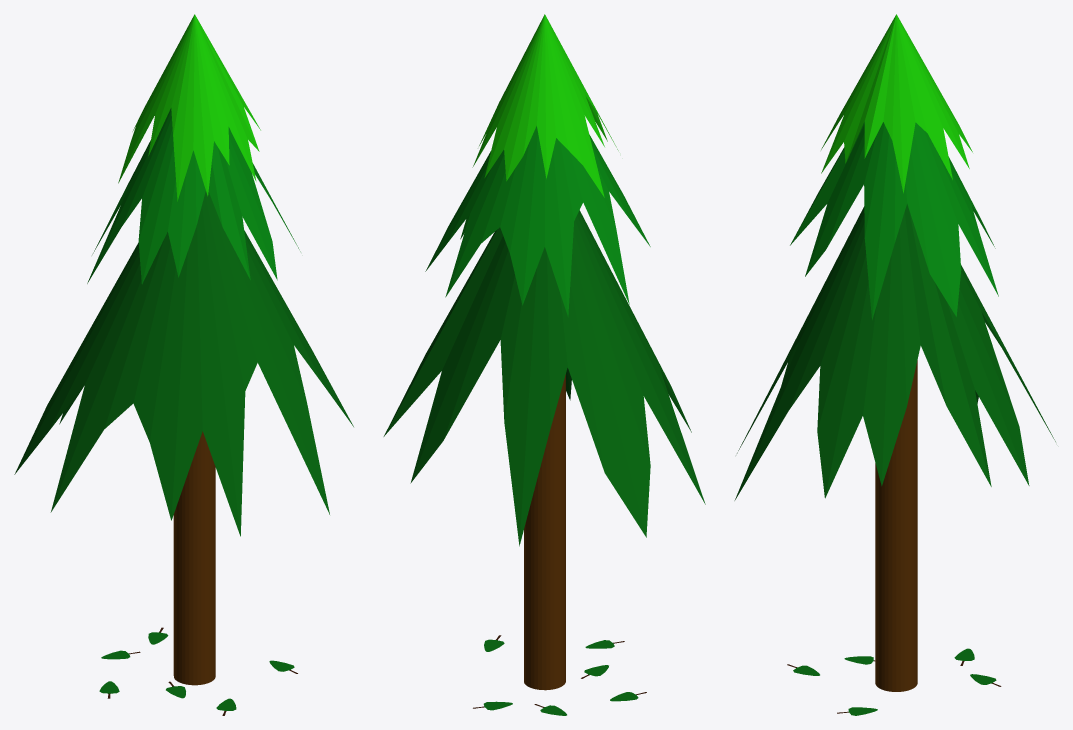
The model's file is treeState4.fbx.
3 views of the same model, side by side, from view 1: azimuth 30°, elevation 25°; view 2: azimuth 150°, elevation 25°; view 3: azimuth 270°, elevation 25° (orthographic).
Visible parts, largest first — view 1: Cone.005, Cone.004, Cone.003, Cylinder.001; view 2: Cone.005, Cone.004, Cone.003, Cylinder.001; view 3: Cone.005, Cone.004, Cylinder.001, Cone.003.
Part boxes in pixels (left/top/right/bottom): Cone.005: left=14, top=191, right=353, bottom=536; Cone.004: left=87, top=108, right=300, bottom=284; Cone.003: left=118, top=14, right=260, bottom=201; Cylinder.001: left=173, top=431, right=215, bottom=685; Cone.005: left=383, top=210, right=705, bottom=546; Cone.004: left=425, top=126, right=650, bottom=317; Cone.003: left=472, top=14, right=618, bottom=197; Cylinder.001: left=524, top=374, right=565, bottom=690; Cone.005: left=734, top=204, right=1055, bottom=500; Cone.004: left=790, top=121, right=998, bottom=320; Cylinder.001: left=875, top=360, right=917, bottom=691; Cone.003: left=821, top=14, right=972, bottom=193.
Bounding box in the file's own units: 96.72 × 217 × 95.64.
